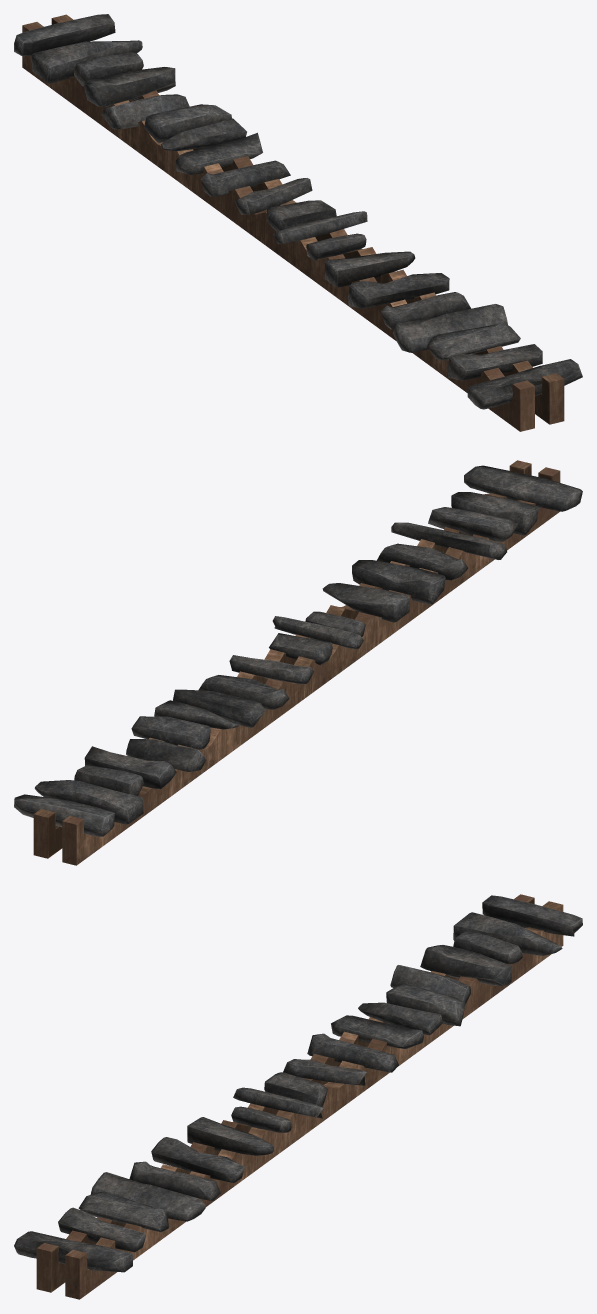
File: danda.glb
3 renders of one model, top to bottom at view 1: azimuth 30°, elevation 25°; view 2: azimuth 150°, elevation 25°; view 3: azimuth 330°, elevation 25°, orthographic. The views are drawn at different scales.
Visible parts, largest first — view 1: mesh, Cube; view 2: mesh, Cube; view 3: mesh, Cube.
Part boxes in pixels (left/top/right/bottom): mesh: left=14, top=14, right=582, bottom=409; Cube: left=22, top=14, right=564, bottom=431; mesh: left=14, top=465, right=582, bottom=836; Cube: left=33, top=460, right=560, bottom=865; mesh: left=14, top=895, right=582, bottom=1272; Cube: left=36, top=894, right=563, bottom=1299.
Bounding box in the file's own units: 1.67 × 0.6705 × 12.88.
Materials: 2 (2 with a texture image).
